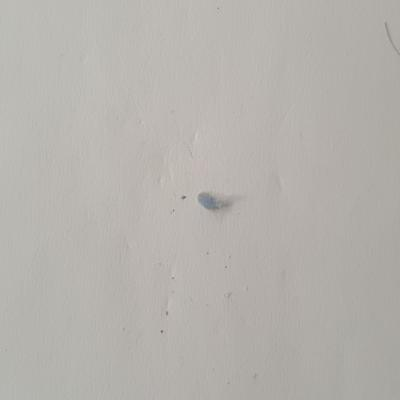plastic: (189, 181, 246, 221)
